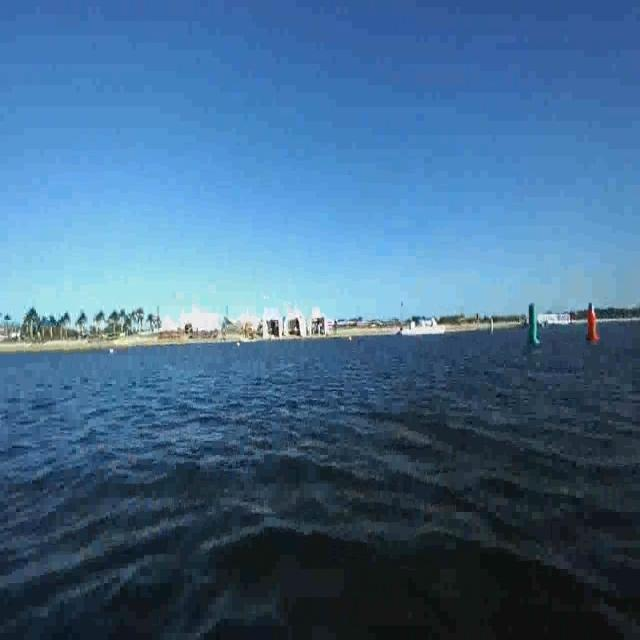green-column-buoy: (525, 302, 541, 349)
red-column-buoy: (586, 309, 600, 344)
